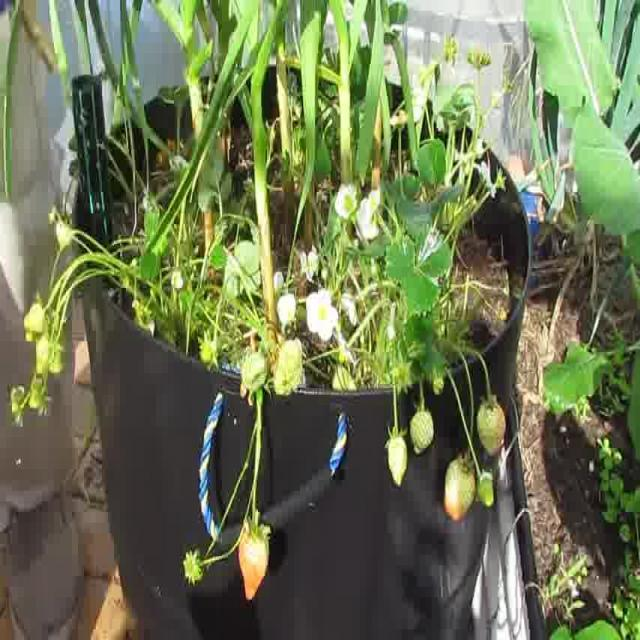Moho gris: (242, 505, 274, 602)
